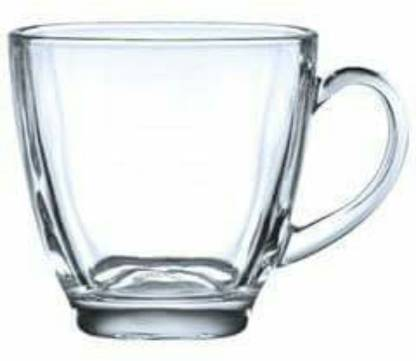cup: (5, 17, 412, 342)
